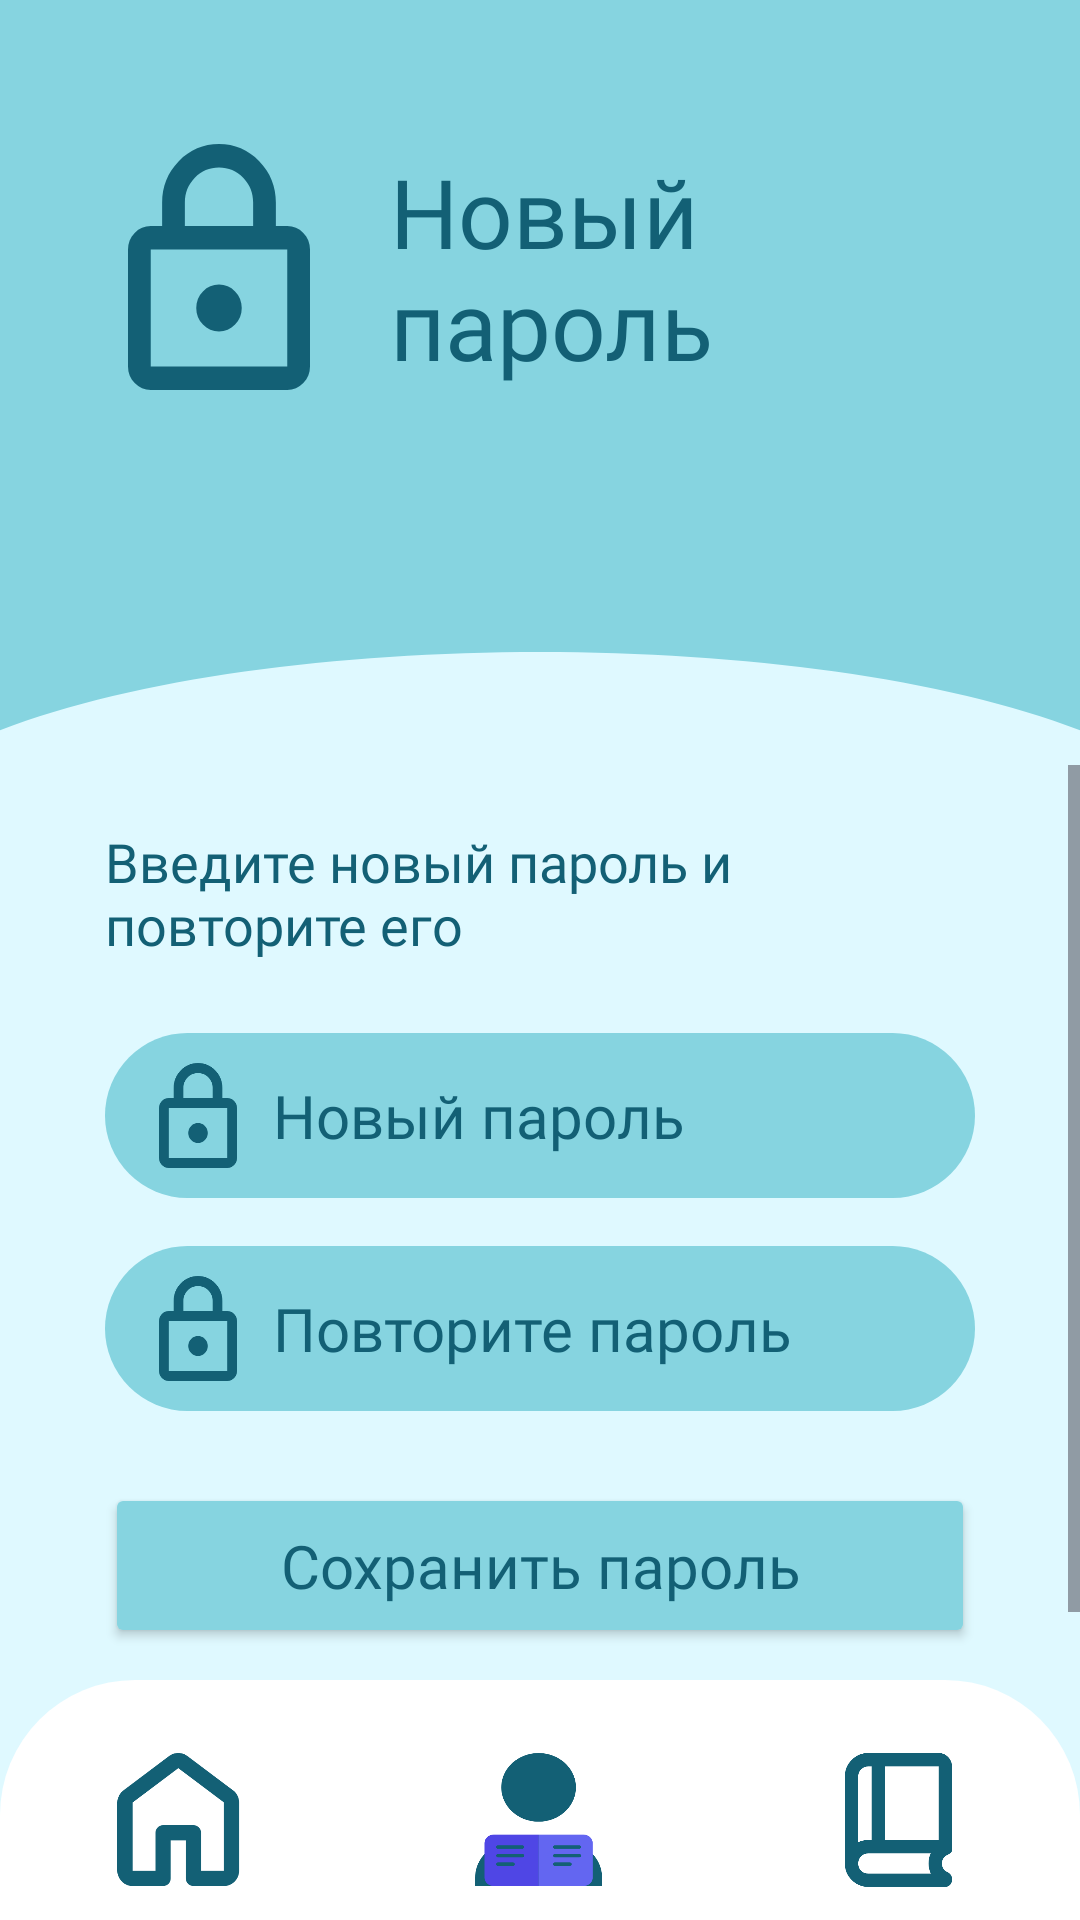

Named icons in this screenshot (1080 × 1920) and their bounding boxes, (x1, y1, x2, y2):
avaterbook: (475, 1753, 602, 1886)
book: (845, 1753, 952, 1887)
home: (117, 1753, 239, 1886)
lock: (128, 144, 310, 390)
